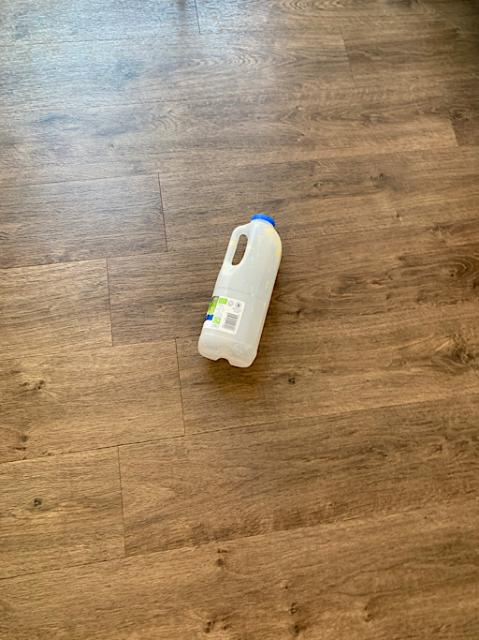plastic: (198, 214, 280, 365)
